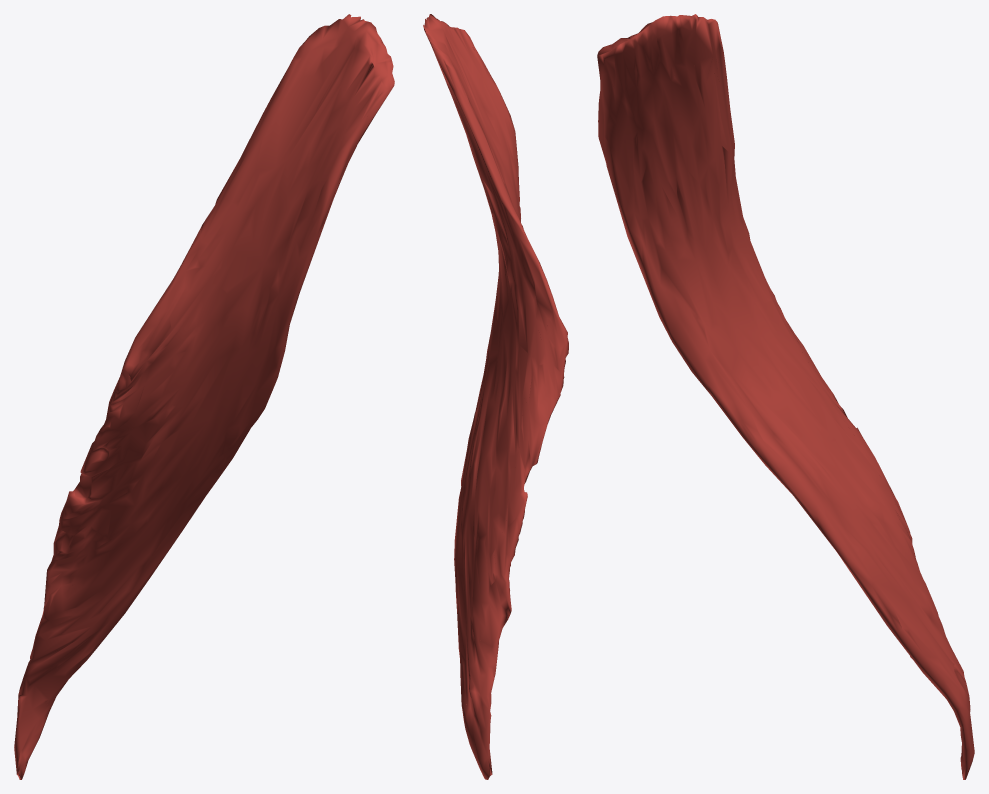
File: musculos-splenius-capitis-muscle-l.glb
3 views of the same model, side by side, from view 1: azimuth 30°, elevation 25°; view 2: azimuth 150°, elevation 25°; view 3: azimuth 270°, elevation 25° (orthographic). The views are drawn at different scales.
Visible parts, largest first — view 1: Splenius capitis muscle.l; view 2: Splenius capitis muscle.l; view 3: Splenius capitis muscle.l.
Boxes of the visible parts, box(x1,y1,x2,y2) form: Splenius capitis muscle.l: box(14, 14, 394, 779); Splenius capitis muscle.l: box(423, 14, 568, 779); Splenius capitis muscle.l: box(597, 14, 974, 779).
Bounding box in the file's own units: 0.0612 × 0.2156 × 0.0843.
